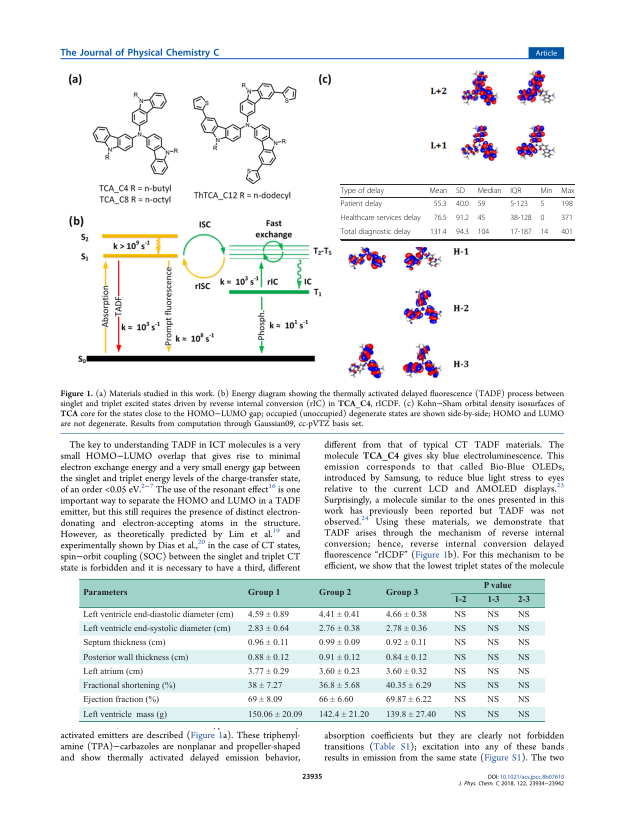borderless: (78, 577, 545, 721), (339, 183, 574, 239)
cell: (81, 610, 234, 620), (81, 624, 231, 634), (81, 653, 189, 663), (81, 681, 176, 691), (81, 638, 166, 649), (81, 710, 167, 720), (81, 695, 159, 706), (340, 214, 422, 224), (340, 228, 412, 238), (81, 667, 143, 677), (247, 710, 303, 720), (385, 695, 432, 706), (318, 710, 369, 720), (385, 710, 436, 720), (385, 681, 432, 691), (247, 638, 289, 649), (318, 638, 360, 649), (385, 638, 427, 649), (82, 589, 128, 599), (340, 200, 383, 210), (247, 610, 289, 620), (318, 610, 360, 620), (385, 610, 427, 620), (247, 624, 289, 634), (318, 624, 360, 634), (385, 624, 427, 634), (247, 653, 289, 663), (318, 653, 360, 663), (385, 653, 427, 663), (247, 667, 289, 677), (318, 667, 360, 677), (385, 667, 427, 677), (318, 681, 360, 691), (340, 187, 385, 196), (247, 695, 283, 706), (318, 695, 354, 706), (247, 681, 283, 691), (384, 589, 419, 599), (247, 589, 281, 599), (318, 589, 352, 599), (482, 582, 512, 592), (509, 214, 533, 224), (509, 228, 533, 238), (477, 187, 502, 196), (509, 200, 529, 210), (429, 228, 448, 238), (428, 187, 448, 196), (453, 638, 467, 649), (486, 638, 500, 649), (453, 695, 467, 706), (486, 695, 500, 706), (433, 200, 448, 210), (455, 200, 470, 210), (433, 214, 448, 224), (455, 214, 470, 224), (455, 228, 470, 238), (517, 638, 530, 649), (517, 695, 530, 706), (560, 200, 574, 210), (560, 214, 574, 224), (560, 228, 574, 238), (453, 596, 467, 606), (486, 596, 500, 606), (516, 596, 530, 606), (453, 610, 467, 620), (486, 610, 500, 620), (453, 624, 467, 634), (486, 624, 500, 634), (453, 653, 467, 663), (486, 653, 500, 663), (453, 667, 467, 677), (486, 667, 500, 677), (453, 681, 467, 691), (486, 681, 500, 691), (453, 710, 467, 720), (486, 710, 500, 720), (560, 187, 575, 196), (477, 228, 490, 238), (517, 610, 530, 620), (517, 624, 530, 634), (517, 653, 530, 663), (517, 667, 530, 677), (517, 681, 530, 691), (517, 710, 530, 720), (539, 187, 553, 196), (509, 187, 522, 196), (539, 228, 549, 238), (455, 187, 466, 196), (477, 200, 486, 210), (477, 214, 486, 224), (539, 200, 545, 210), (539, 214, 545, 224)
